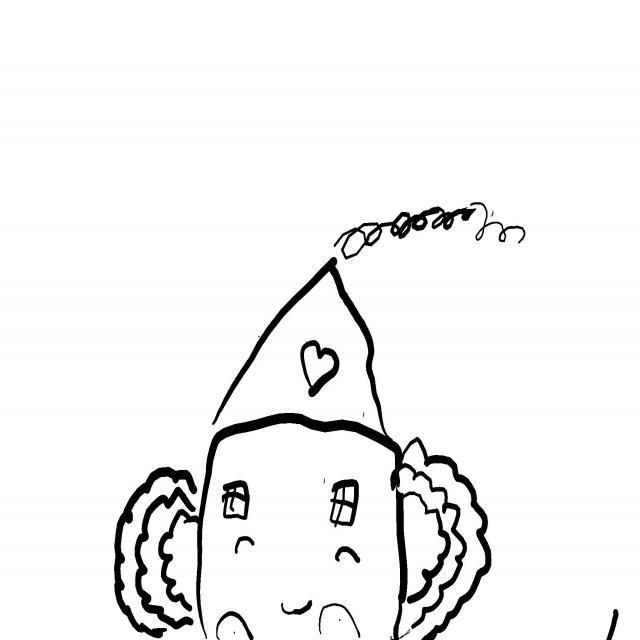door: (321, 604, 361, 640), (216, 613, 254, 640)
house: (193, 265, 403, 640)
roof: (207, 266, 394, 447)
wall: (196, 418, 405, 640)
window: (330, 480, 359, 528), (223, 481, 250, 521)
